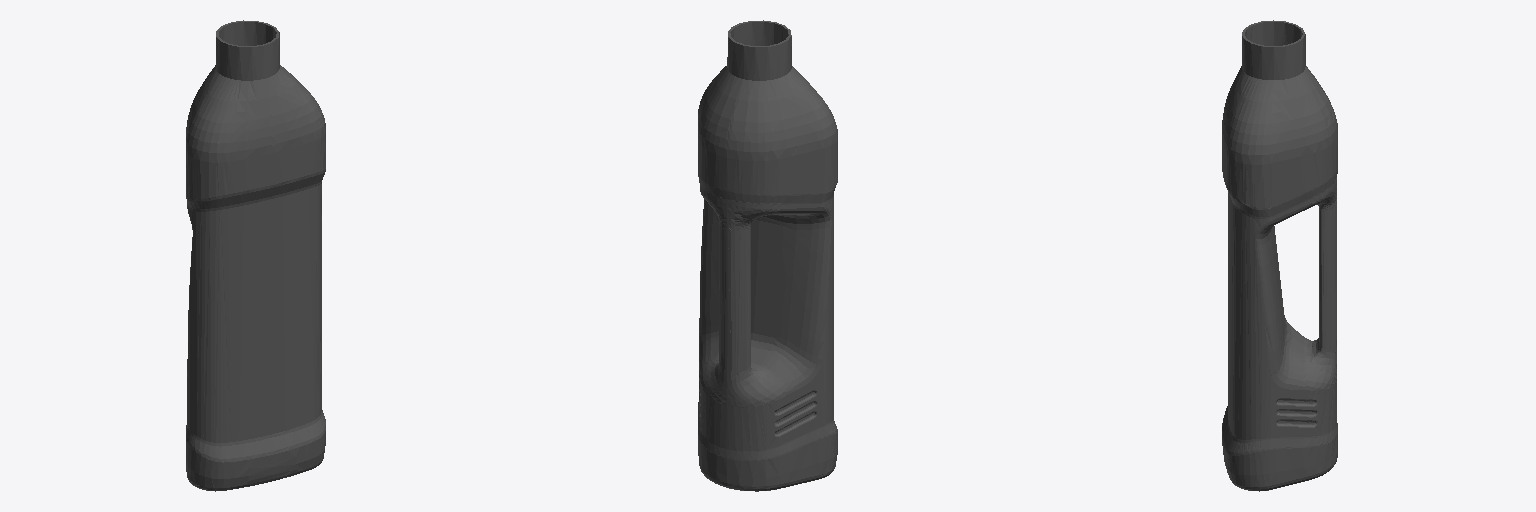
The robot description file, URDF, robot "Part3.SLDPRT":
<?xml version="1.0" encoding="utf-8"?>
<!-- This URDF was automatically created by SolidWorks to URDF Exporter! Originally created by [author] ([email redacted]) 
     Commit Version: 1.5.1-0-g916b5db  Build Version: 1.5.7152.31018
     For more information, please see http://wiki.ros.org/sw_urdf_exporter -->
<robot
  name="Part3.SLDPRT">
  <link
    name="Part3.SLDPRT">
    <inertial>
      <origin
        xyz="-6.2537E-05 -0.12784 0.024676"
        rpy="0 0 0" />
      <mass
        value="1.026721" />
      <inertia
        ixx="0.0001815"
        ixy="1.1003E-07"
        ixz="9.65590000000001E-09"
        iyy="2.4711E-05"
        iyz="4.0532000000001E-07"
        izz="0.00018575" />
    </inertial>
    <visual>
      <origin
        xyz="0 0 0"
        rpy="0 0 0" />
      <geometry>
        <mesh
          filename="models/meshes/bottle/Part3.SLDPRT.STL" scale="2 2 2" />
      </geometry>
      <material
        name="bottle">
        <color
          rgba="0.4 0.4 0.4 0.7" />
        <texture
          filename="bottle/textures/" />
      </material>
    </visual>
    <collision>
      <origin
        xyz="0 0 0"
        rpy="0 0 0" />
      <geometry>
        <mesh
          filename="models/meshes/bottle/Part3.SLDPRT.STL" scale="2 2 2"  />
      </geometry>
    </collision>
  </link>
</robot>

--- Render facts (derived) ---
3 views of the same robot in one strip: view 1: azimuth 30°, elevation 25°; view 2: azimuth 150°, elevation 25°; view 3: azimuth 270°, elevation 25° (orthographic).
Robot: Part3.SLDPRT — 1 links, 0 joints (none); root link Part3.SLDPRT; default pose: all joints at 0.
Links seen in each view (by area): view 1: Part3.SLDPRT; view 2: Part3.SLDPRT; view 3: Part3.SLDPRT.
Boxes of the visible links, x1,y1,x2,y2 form: Part3.SLDPRT: (186, 20, 325, 491); Part3.SLDPRT: (698, 20, 837, 491); Part3.SLDPRT: (1222, 20, 1337, 491).
Size in the robot's own frame: 0.1658 by 0.128 by 0.52 metres.
Meshes: 1 distinct files referenced, 1 mesh visuals loaded (1 binary STL).